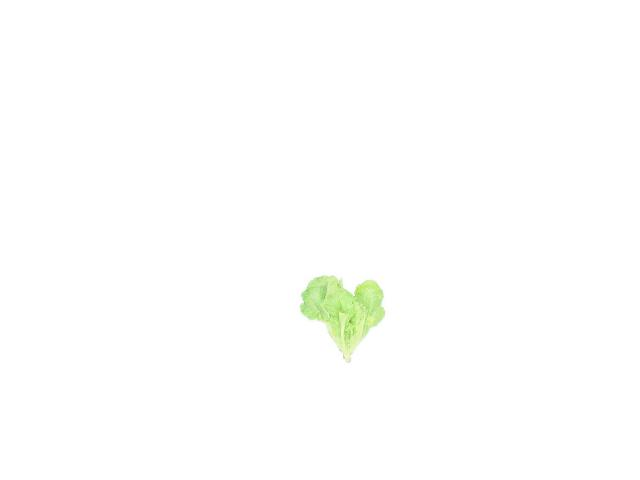lettuce: (295, 270, 388, 365)
